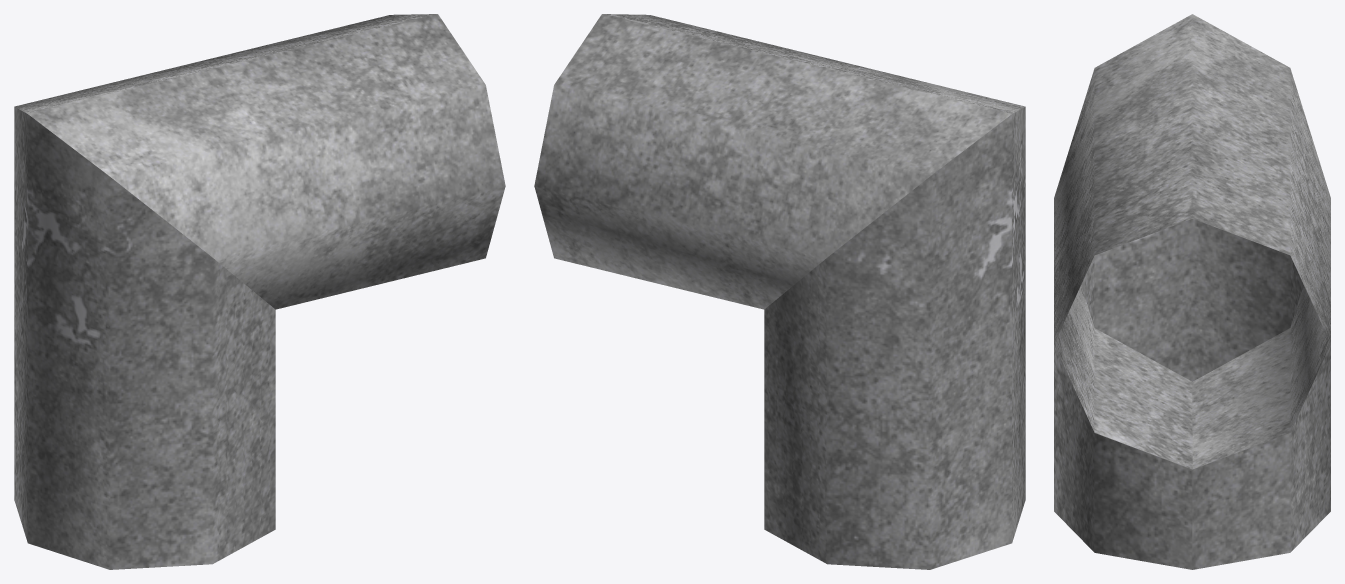
Rendered from Pipes0TurnShort.fbx.
3 views of the same model, side by side, from view 1: azimuth 30°, elevation 25°; view 2: azimuth 150°, elevation 25°; view 3: azimuth 270°, elevation 25° (orthographic). The views are drawn at different scales.
Visible parts, largest first — view 1: Pipe0TurnShort; view 2: Pipe0TurnShort; view 3: Pipe0TurnShort.
Part boxes in pixels (x1=…): Pipe0TurnShort: x1=14, y1=14, x2=505, y2=569; Pipe0TurnShort: x1=534, y1=14, x2=1025, y2=569; Pipe0TurnShort: x1=1054, y1=14, x2=1330, y2=569.
Bounding box in the file's own units: 0.7 × 0.7 × 0.4.
